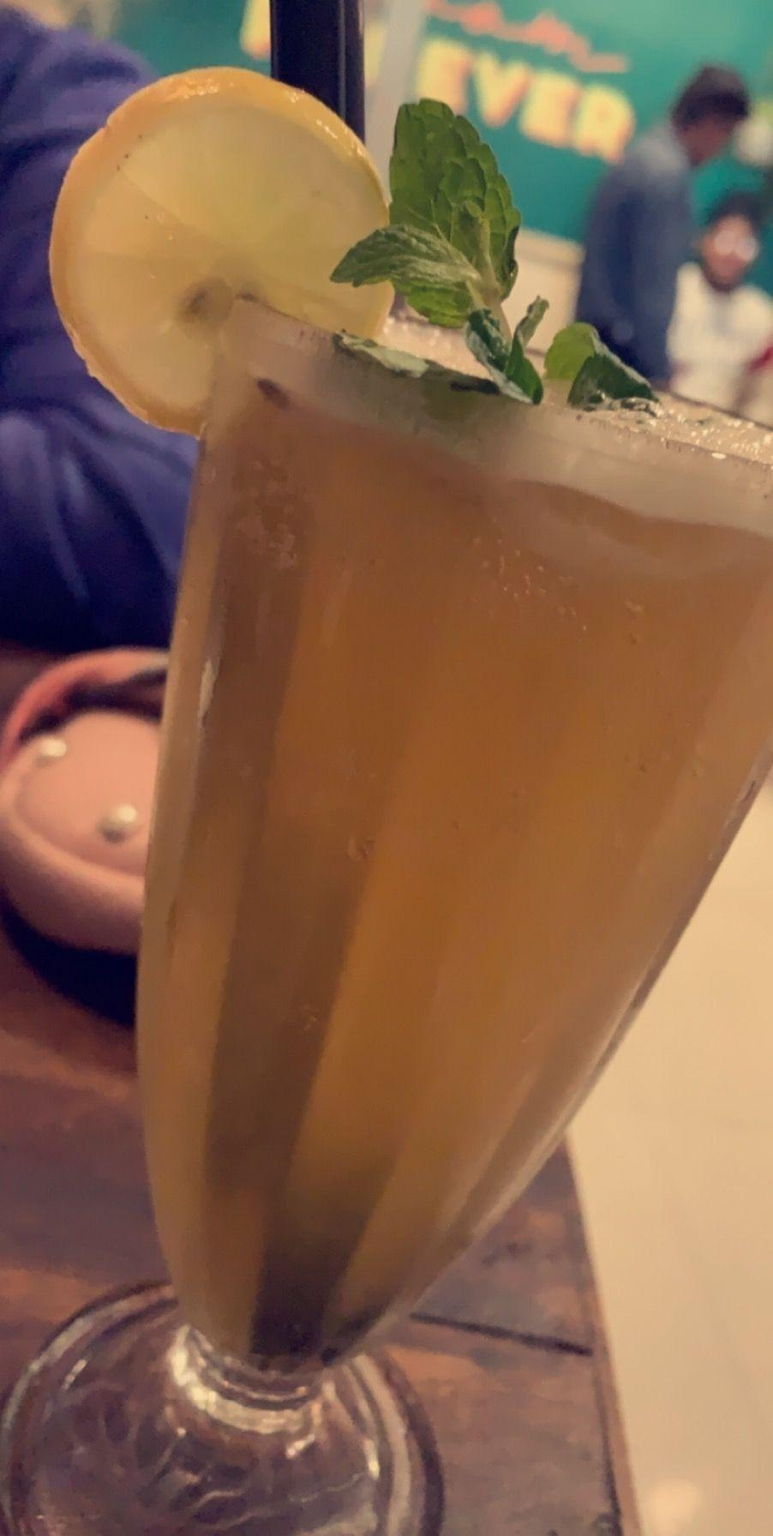glass-wine: (35, 321, 773, 1536)
